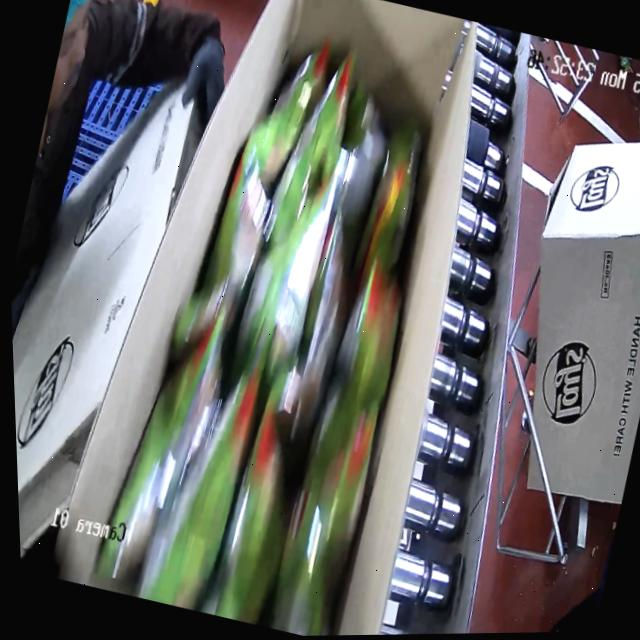YOGURT_HERB: (84, 41, 463, 639)
